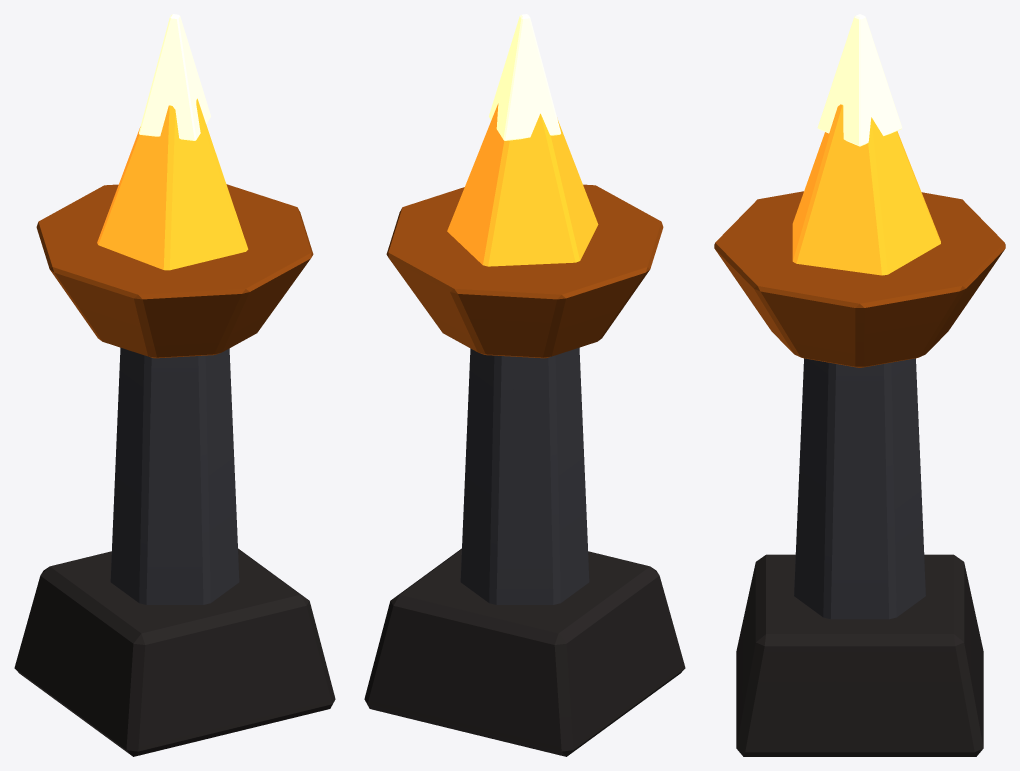
File: torch.glb
The picture shows the model from 3 angles, left to right: view 1: azimuth 30°, elevation 25°; view 2: azimuth 150°, elevation 25°; view 3: azimuth 270°, elevation 25°; orthographic projection. The views are drawn at different scales.
Parts seen in each view (by area): view 1: torch; view 2: torch; view 3: torch.
Part boxes in pixels (bbox=[...]): torch: bbox=[14, 14, 335, 756]; torch: bbox=[364, 14, 685, 756]; torch: bbox=[714, 14, 1005, 756].
Bounding box in the file's own units: 0.4651 × 1.22 × 0.4651.
